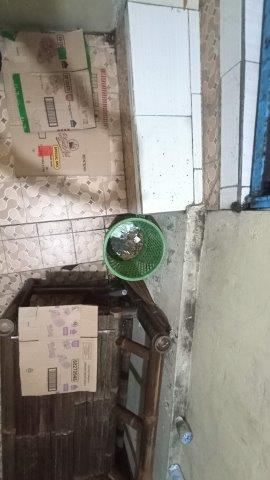kardus: (3, 31, 109, 176), (19, 307, 97, 395)
